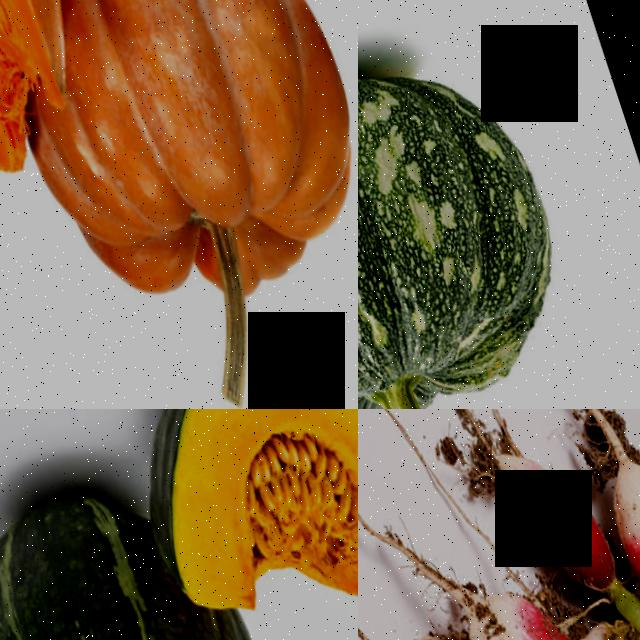pumpkin: (29, 0, 358, 344), (358, 0, 611, 409), (93, 409, 358, 640), (0, 446, 255, 640), (0, 0, 110, 187)
radishes: (358, 409, 640, 640)
